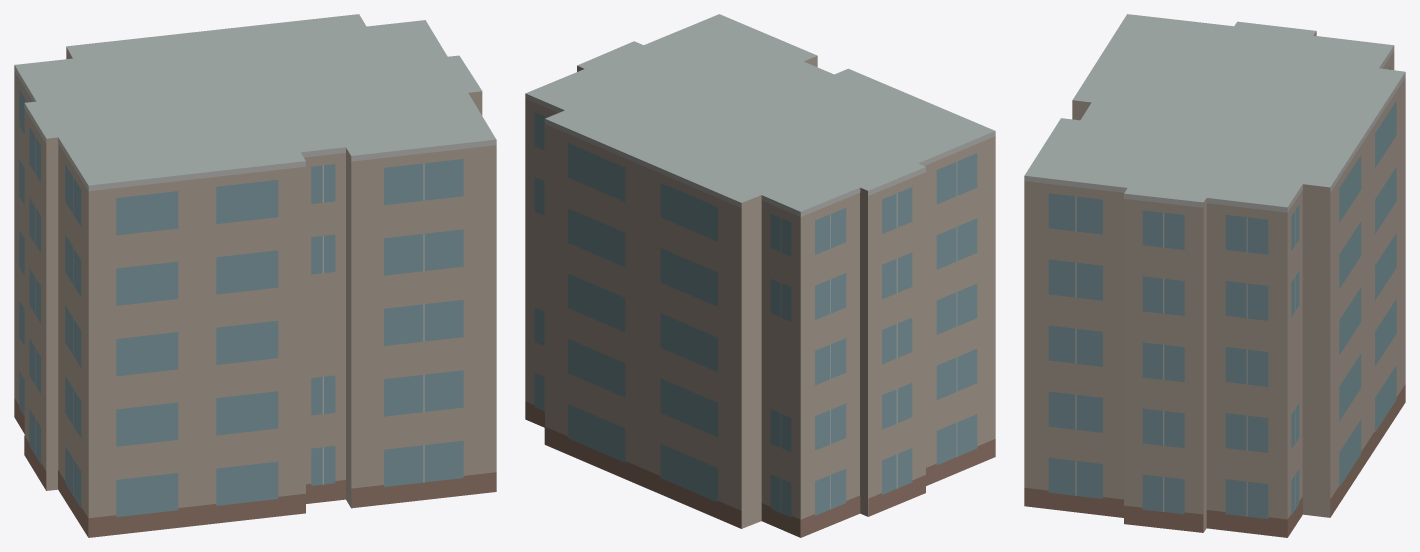
The model's file is survey-upis-32583977.glb.
The picture shows the model from 3 angles, left to right: view 1: azimuth 30°, elevation 25°; view 2: azimuth 150°, elevation 25°; view 3: azimuth 270°, elevation 25°; orthographic projection. The views are drawn at different scales.
Parts seen in each view (by area): view 1: survey-upis-32583977.tmp; view 2: survey-upis-32583977.tmp; view 3: survey-upis-32583977.tmp.
Boxes of the visible parts, left/top/right/bottom form: survey-upis-32583977.tmp: left=14, top=14, right=496, bottom=537; survey-upis-32583977.tmp: left=525, top=14, right=995, bottom=537; survey-upis-32583977.tmp: left=1024, top=14, right=1405, bottom=537.
Size of the model in its own units: 19.21 by 15.3 by 16.01.
